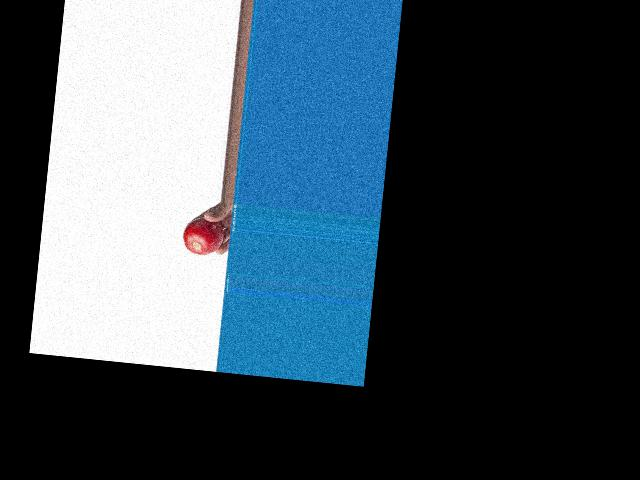tomato: (182, 215, 225, 257)
